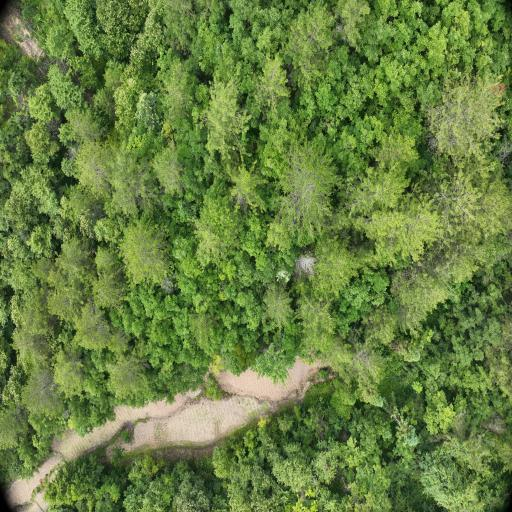dead-tree: (298, 259, 313, 272)
